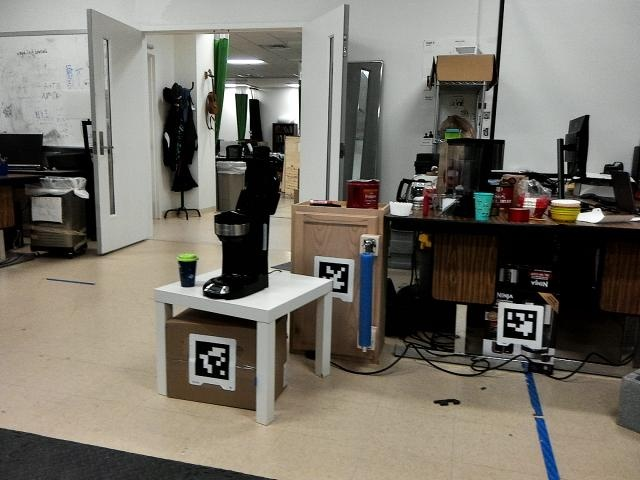coffee_cup: (473, 189, 494, 226)
noodle_handle: (356, 245, 376, 349)
useless_cup: (175, 252, 201, 286)
